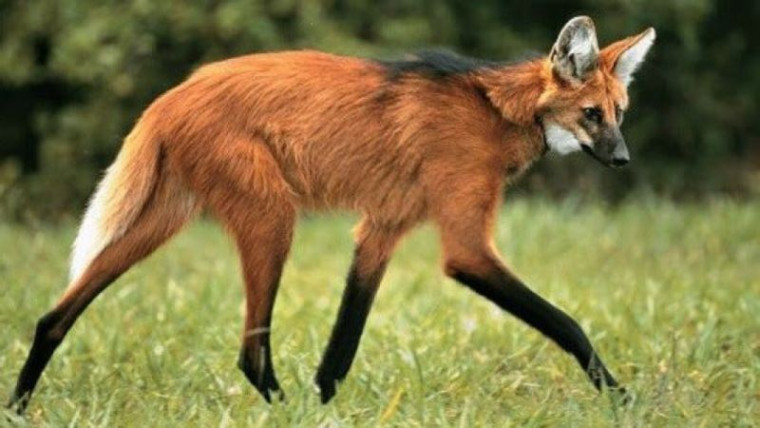LoboGuara: (6, 9, 663, 417)
